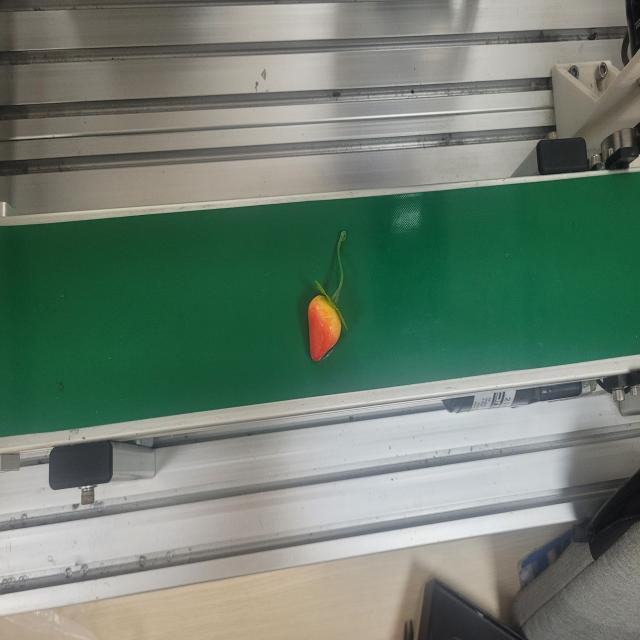Small Unripe Strawberry: (304, 226, 351, 366)
conveyor: (1, 162, 640, 450)
